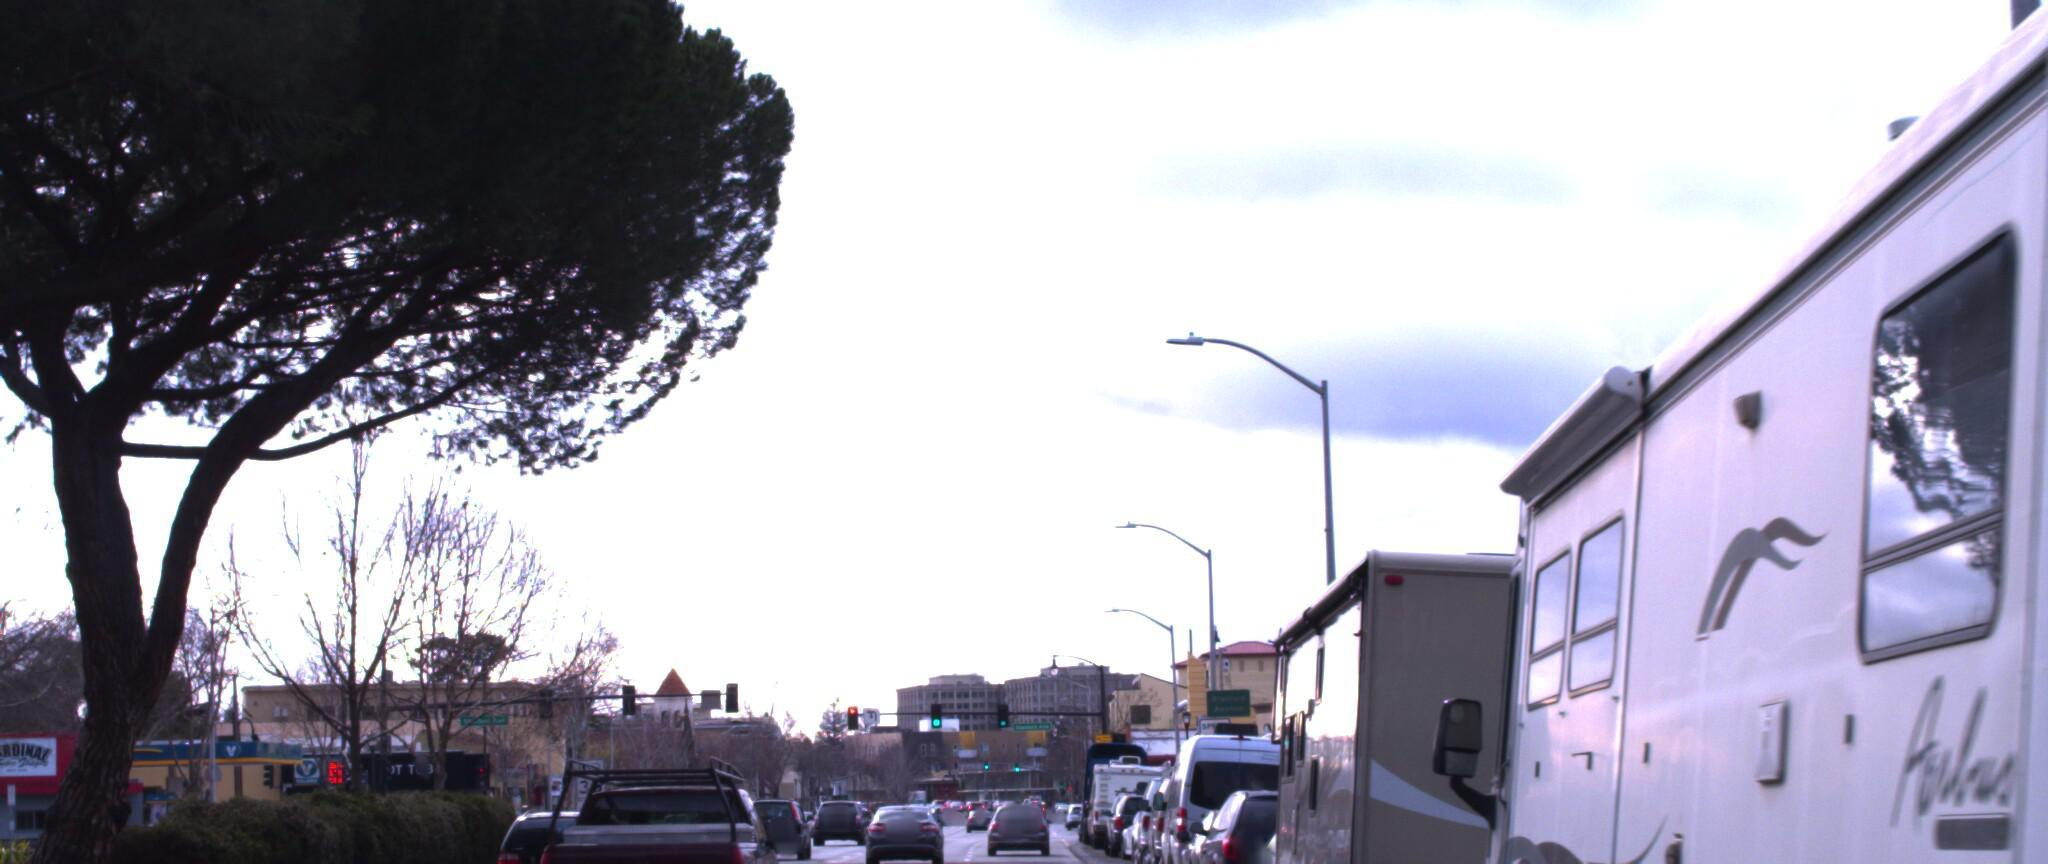car: (524, 741, 795, 864), (1166, 707, 1317, 864), (1200, 775, 1374, 864), (863, 790, 948, 861), (743, 780, 827, 844)
other_vehicle: (1433, 0, 2048, 864), (1249, 527, 1906, 864)
